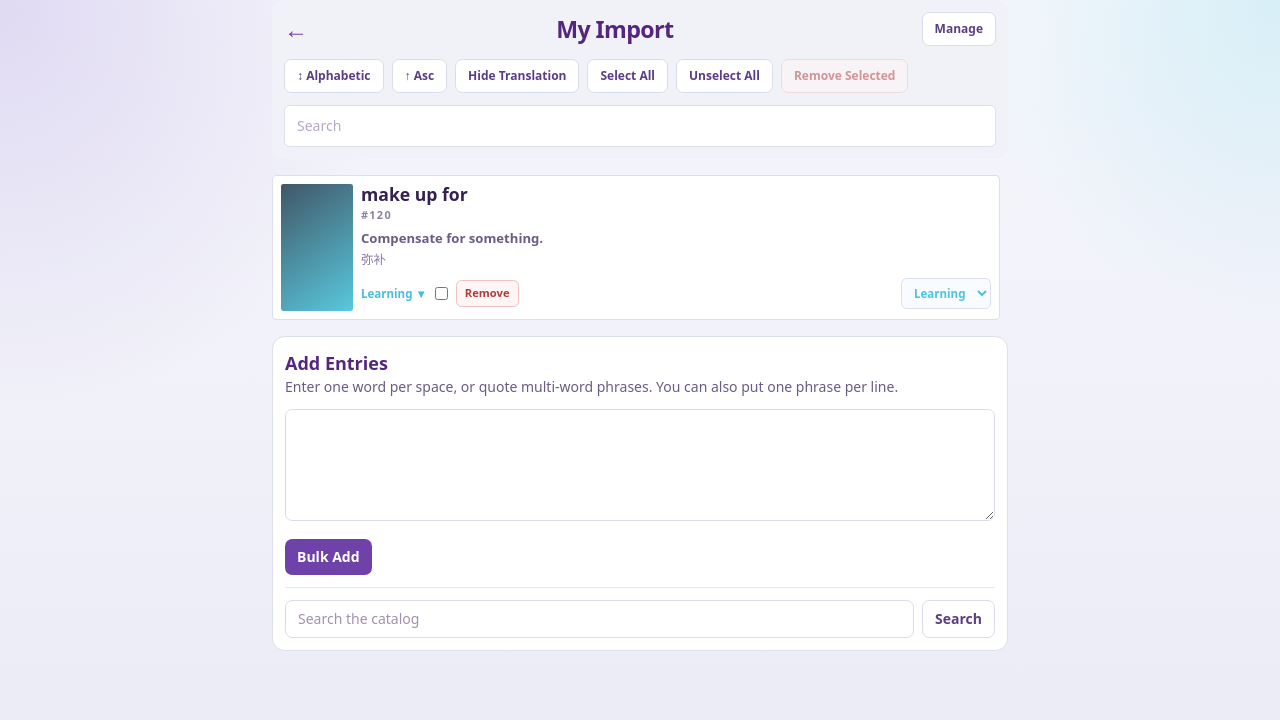
Scenario: WordListDetailRoute › toggles translation visibility while keeping the definition visible
This screenshot has width=1280, height=720.
Expected: the text "Compensate for something." is shown, [361,229,543,247]
Expected: the text "弥补" is shown, [361,251,386,268]
Click the button with test id "word-list-translation-toggle": (517, 76) [455,59,580,93]
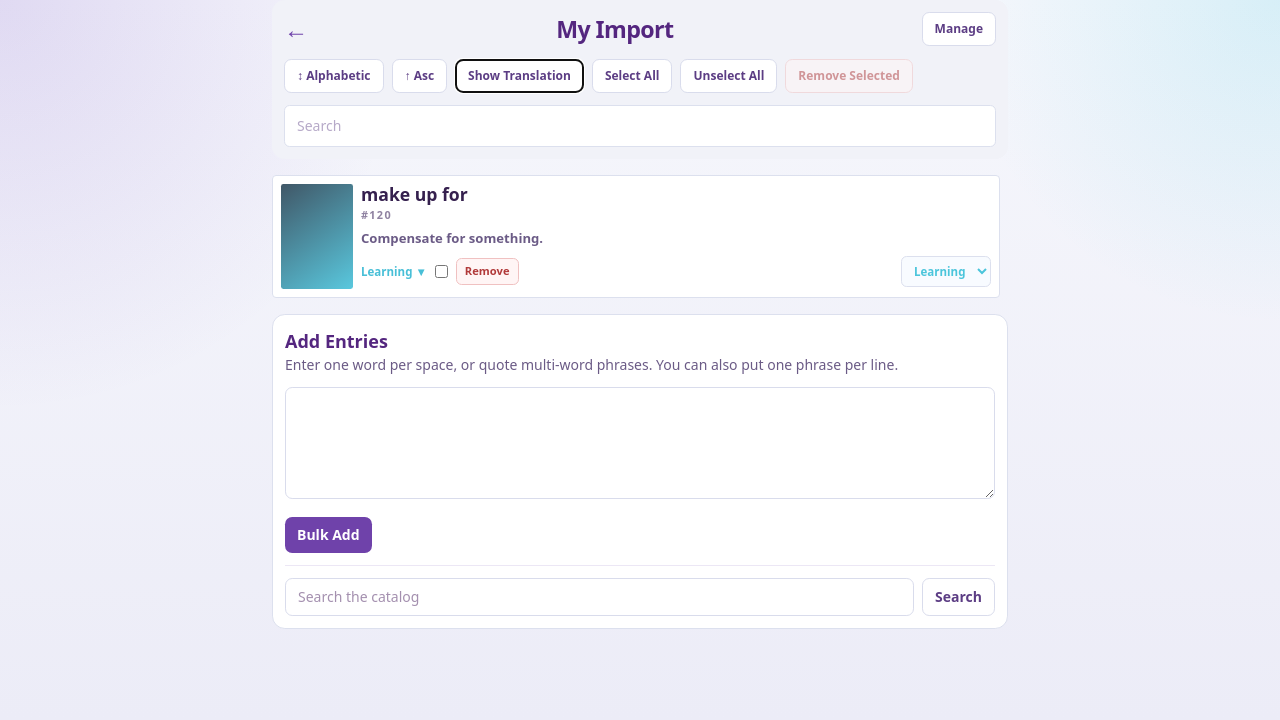
Expected: the text "Compensate for something." is shown, [361,229,543,247]
Result: the text "弥补" is gone
